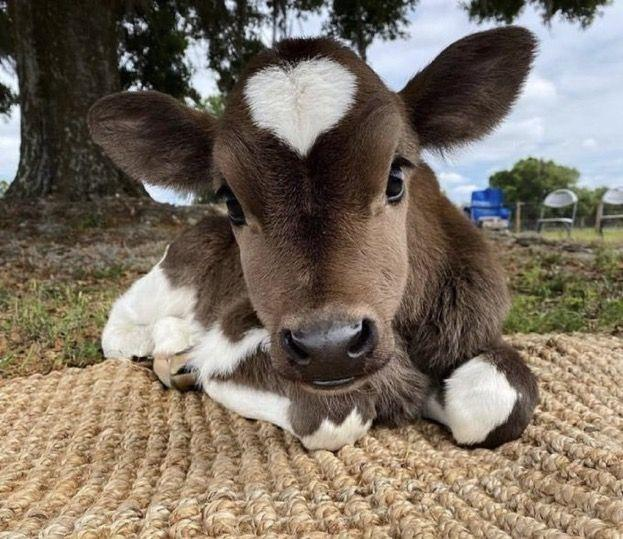cow: (78, 45, 587, 475)
